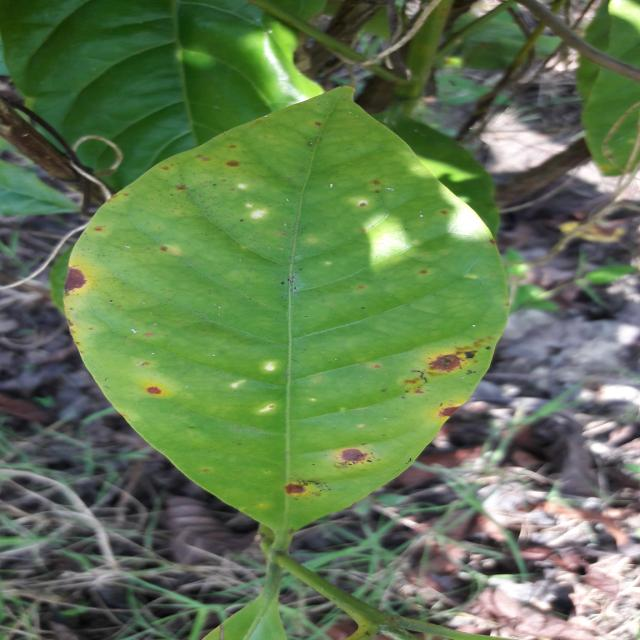Enfermedad-Roya: (61, 87, 516, 549)
